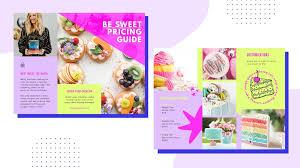paper: (12, 12, 288, 156)
